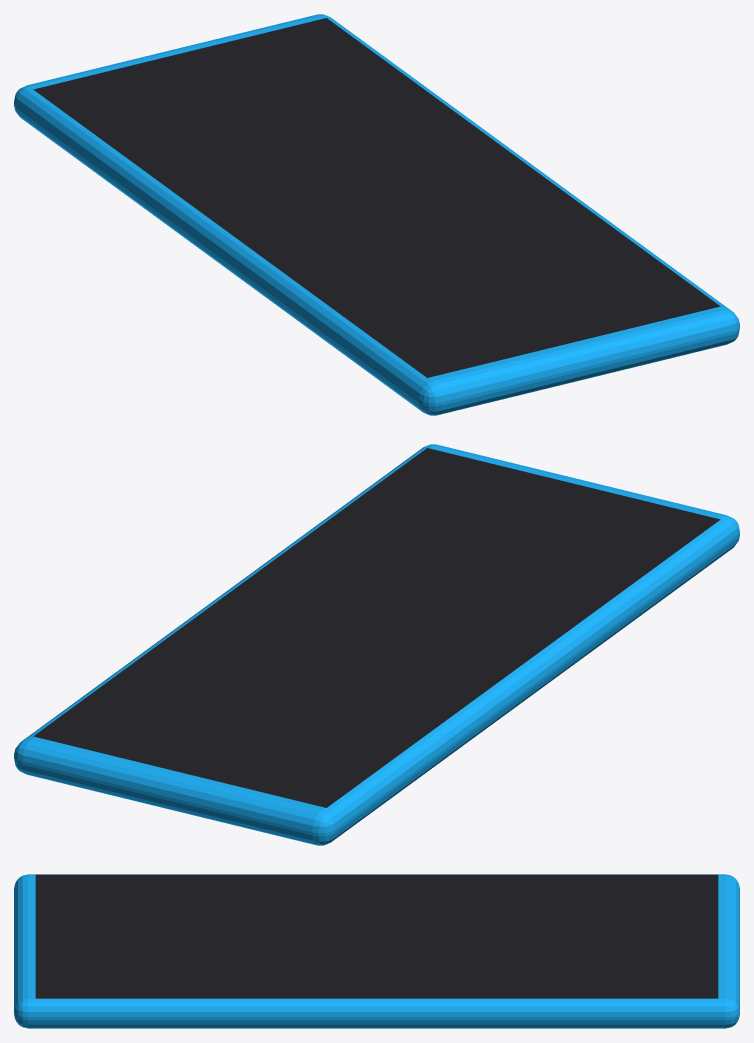
File: Phone_533.glb
3 renders of one model, top to bottom at view 1: azimuth 30°, elevation 25°; view 2: azimuth 150°, elevation 25°; view 3: azimuth 270°, elevation 25°, orthographic. The views are drawn at different scales.
Parts seen in each view (by area): view 1: Phone_Screen, Phone_Body; view 2: Phone_Screen, Phone_Body; view 3: Phone_Screen, Phone_Body.
Boxes of the visible parts, left/top/right/bottom form: Phone_Screen: left=33, top=18, right=720, bottom=377; Phone_Body: left=14, top=14, right=739, bottom=415; Phone_Screen: left=33, top=448, right=720, bottom=807; Phone_Body: left=14, top=444, right=739, bottom=845; Phone_Screen: left=35, top=874, right=718, bottom=998; Phone_Body: left=14, top=874, right=739, bottom=1028.
Size of the model in its own units: 0.0726 by 0.0073 by 0.1653.
